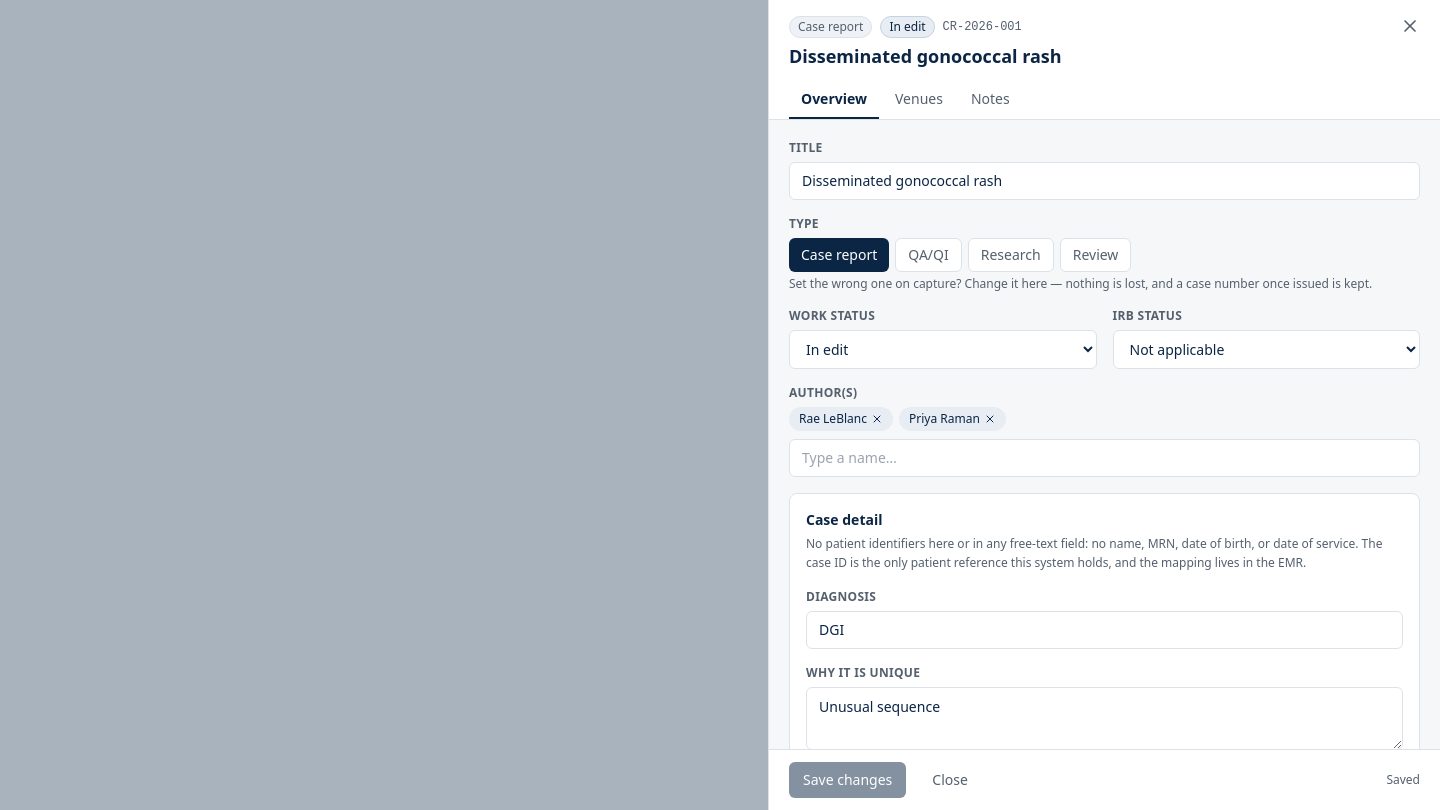
Test: saving › goes back to clean after a successful save
Type "!" into the field showing "Disseminated gonococcal rash".
click(1104, 181); type("!")  # box top-left (789, 162), bottom-right (1420, 200)
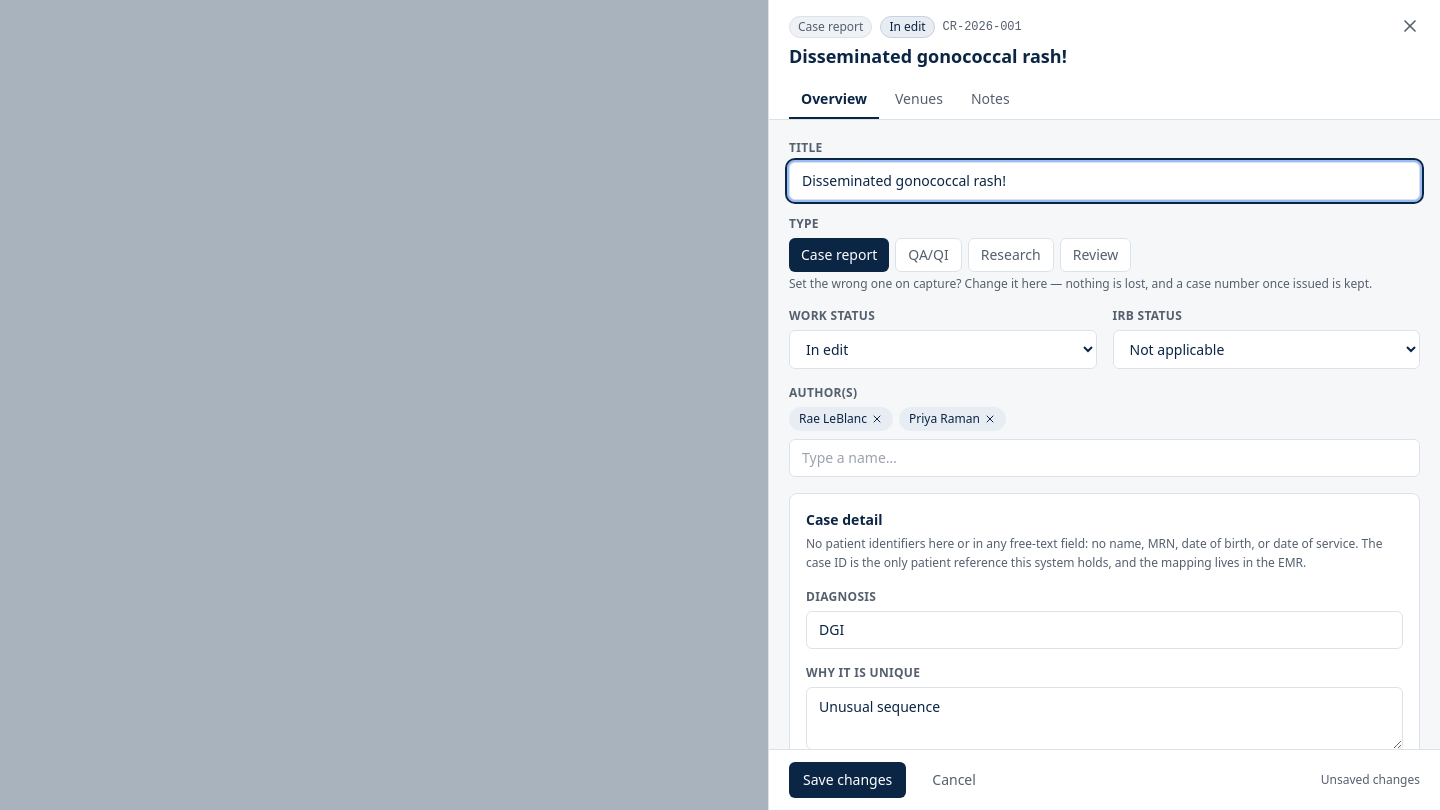
Click the button "Save changes".
click(848, 780)  # box top-left (789, 762), bottom-right (906, 798)
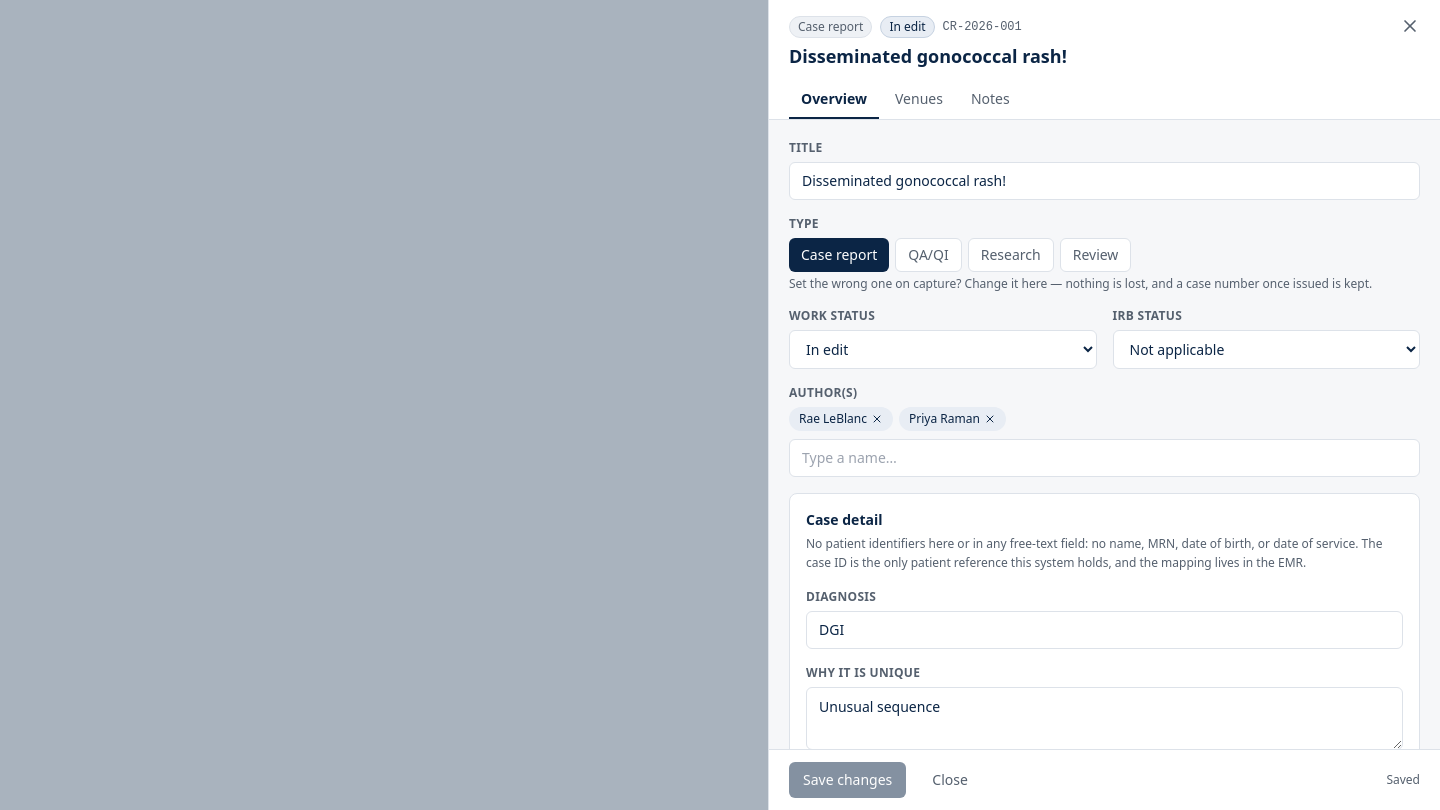
Expected: the text "Saved" is shown, top-left (1386, 772), bottom-right (1420, 788)
Expected: the button "Save changes" is disabled, top-left (789, 762), bottom-right (906, 798)
